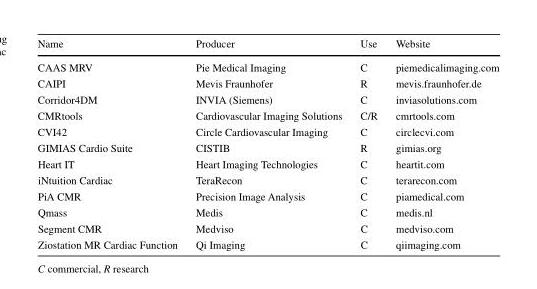table: (36, 36, 498, 250)
table column: (185, 36, 350, 250), (36, 36, 185, 250), (385, 36, 498, 250), (350, 36, 385, 250)
table column header: (36, 36, 498, 54)
table row: (36, 54, 498, 74), (36, 36, 498, 54), (36, 90, 498, 107), (36, 219, 498, 236), (36, 74, 498, 90), (36, 107, 498, 123), (36, 123, 498, 139), (36, 139, 498, 155), (36, 155, 498, 171), (36, 171, 498, 187), (36, 187, 498, 203), (36, 203, 498, 219), (36, 236, 498, 250)
